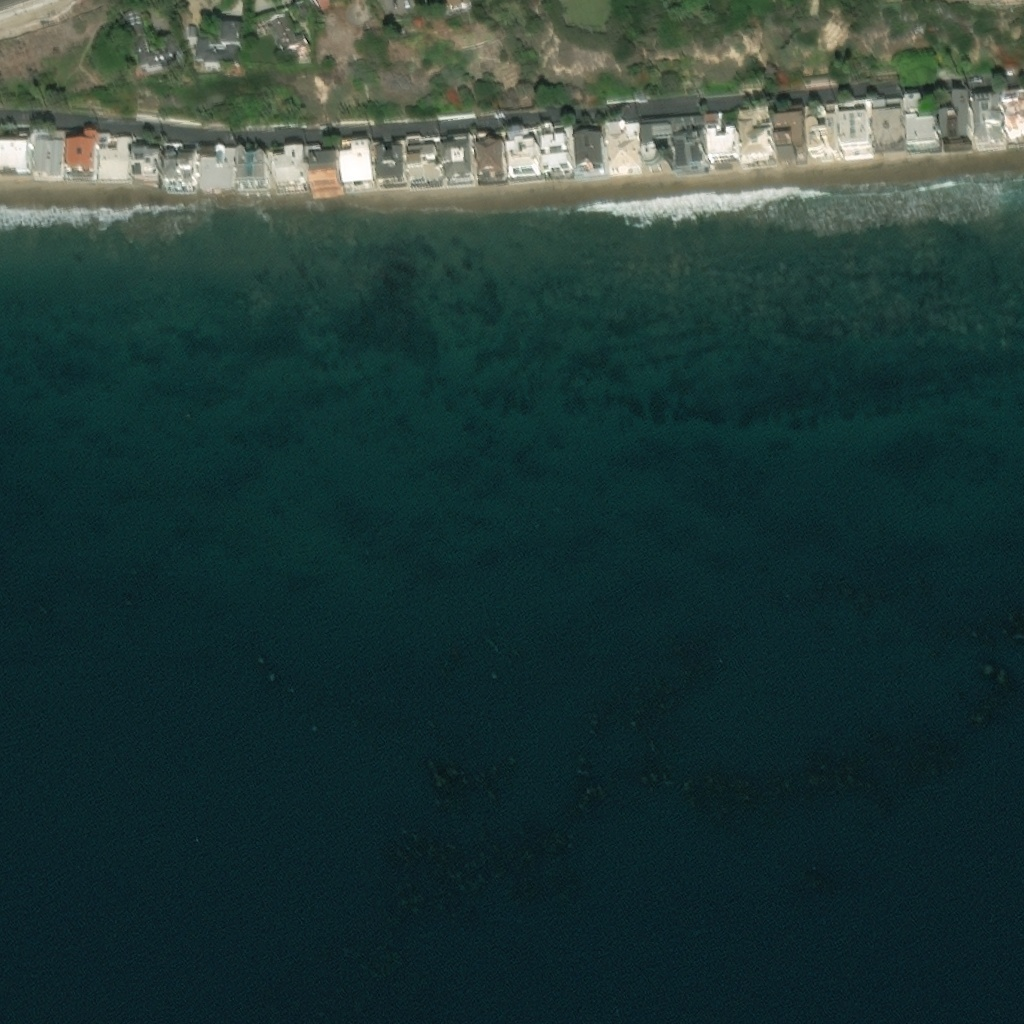0 no-damage: (125, 13, 188, 86), (187, 23, 248, 75), (739, 110, 780, 172), (267, 14, 314, 68), (603, 120, 644, 180), (673, 115, 711, 178), (904, 95, 943, 154), (938, 94, 976, 154), (570, 126, 610, 182), (973, 93, 1010, 152), (440, 133, 477, 189), (842, 103, 877, 161), (871, 99, 907, 155), (476, 131, 511, 187), (540, 126, 575, 182), (775, 109, 810, 165), (809, 105, 843, 162), (707, 112, 740, 169), (163, 145, 201, 193), (641, 119, 676, 171), (342, 143, 377, 194), (507, 128, 541, 179), (67, 131, 99, 181), (201, 148, 237, 192), (310, 152, 344, 198), (238, 149, 272, 194), (99, 137, 132, 182), (274, 148, 309, 190), (376, 146, 407, 190), (33, 139, 64, 181), (407, 146, 441, 184), (0, 140, 29, 176), (132, 152, 163, 183), (1005, 92, 1023, 145), (446, 0, 477, 25), (307, 0, 337, 20)
